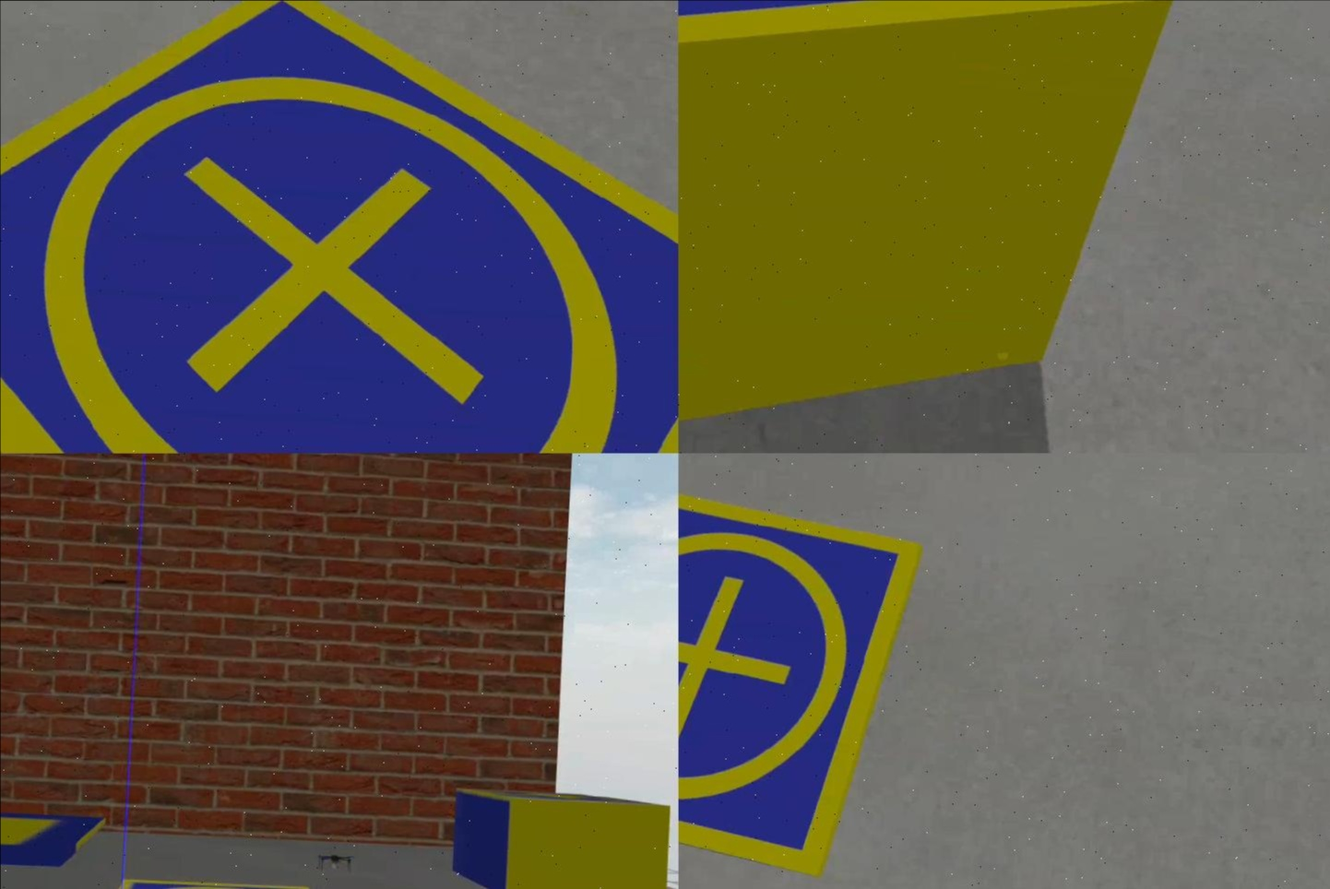large_base: (1, 793, 109, 873)
small_base: (0, 0, 679, 454), (679, 467, 932, 886)
